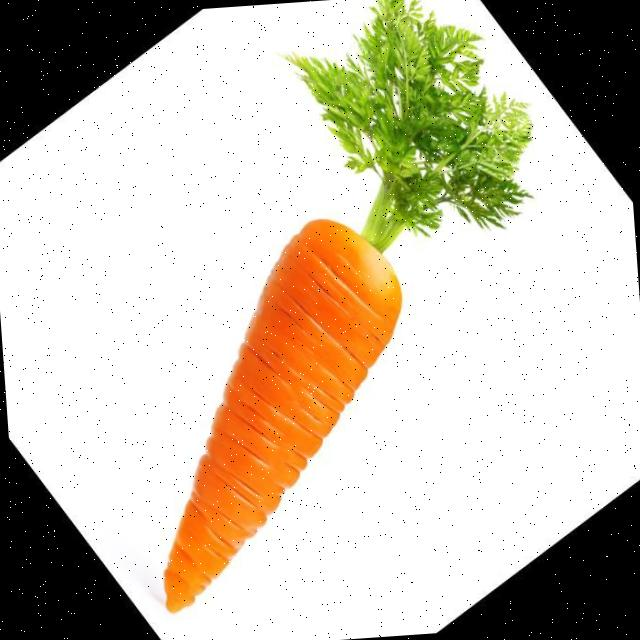carrot: (163, 0, 531, 611)
